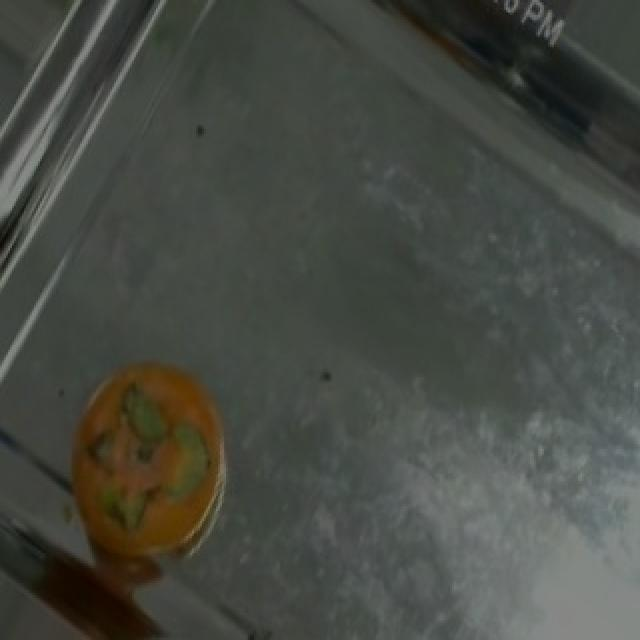Fruit: (36, 337, 254, 588)
